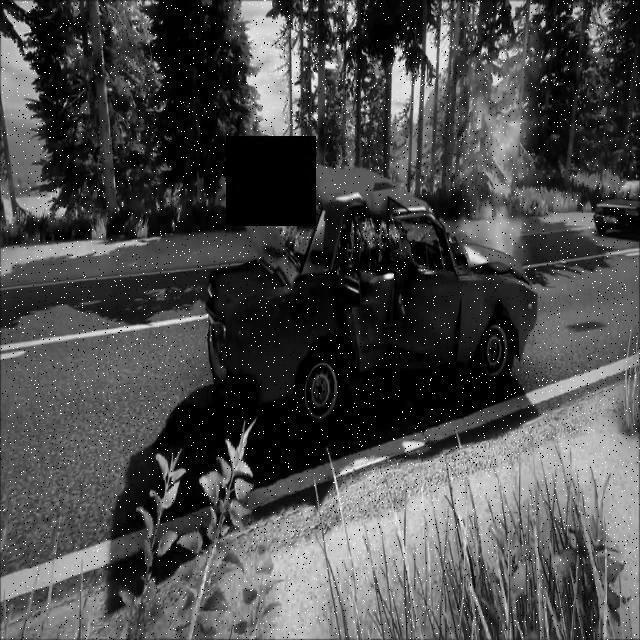accident: (202, 160, 545, 431)
vehicle: (593, 174, 640, 236)
